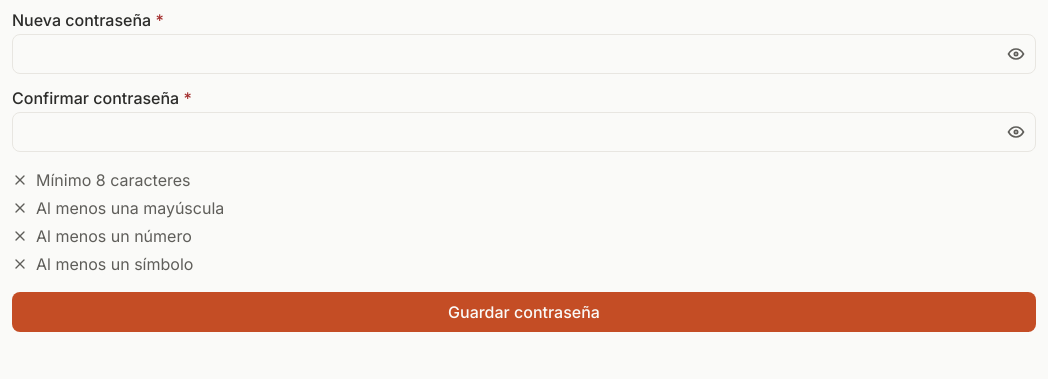
Test: NewPasswordForm › shows a mismatch error when the confirmation differs
This screenshot has width=1048, height=379.
Type "Segura1!" into the password field labelled "Nueva contraseña".
click(524, 54); type("Segura1!")  # box [12, 34, 1036, 74]
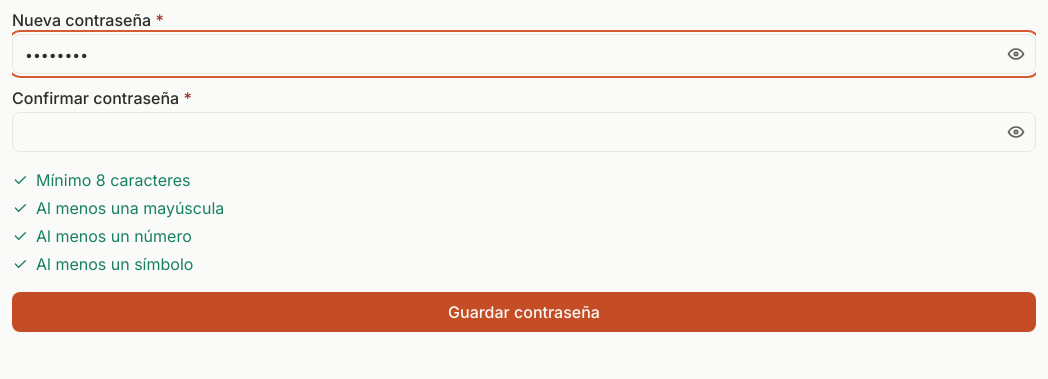
Type "Segura2!" into the password field labelled "Confirmar contraseña".
click(524, 132); type("Segura2!")  # box [12, 112, 1036, 152]
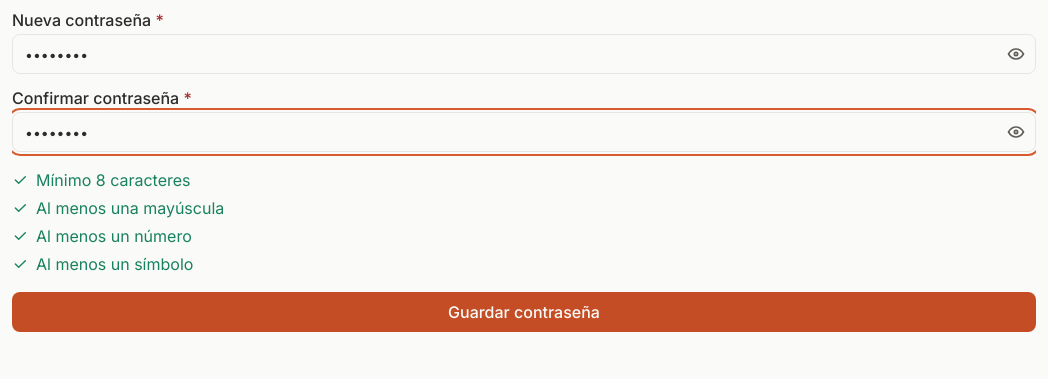
Click the button "Guardar contraseña".
click(524, 312)  # box [12, 292, 1036, 332]
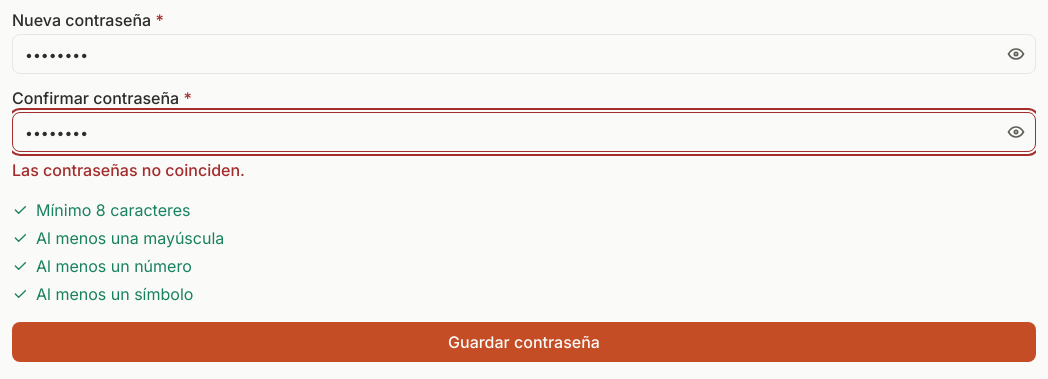
Expected: the message shows "no coinciden", [12, 160, 245, 180]
